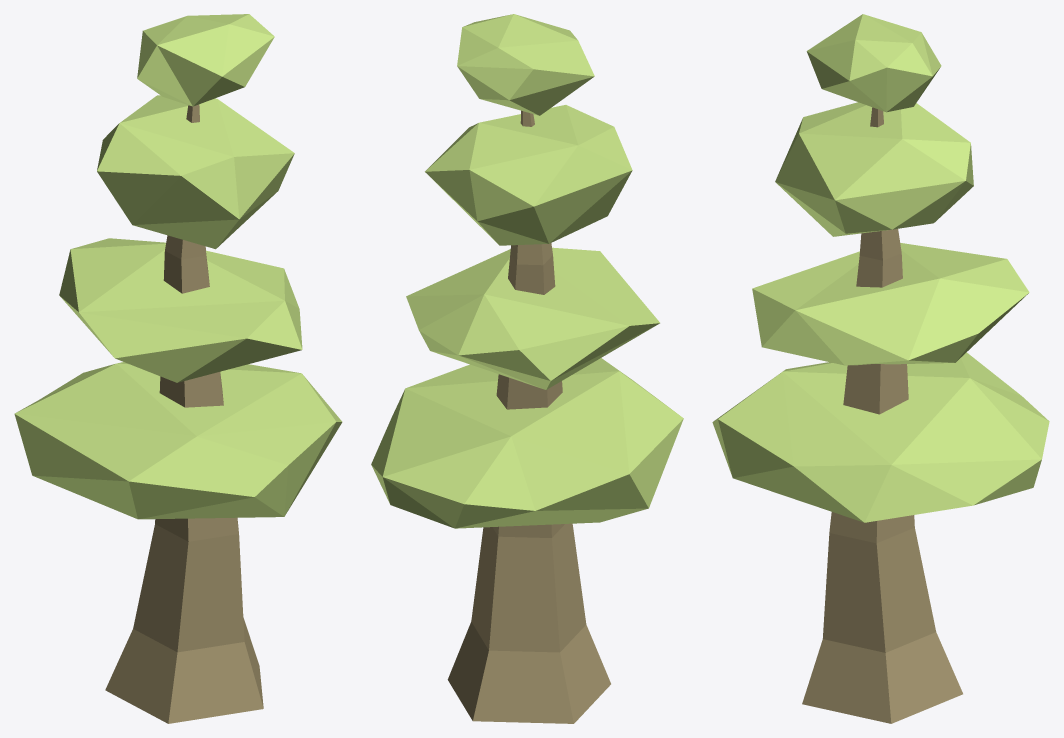
The model's file is Low_Poly_Tree_002Light3.fbx.
3 renders of one model, left to right at view 1: azimuth 30°, elevation 25°; view 2: azimuth 150°, elevation 25°; view 3: azimuth 270°, elevation 25°, orthographic.
Parts seen in each view (by area): view 1: Low_Poly_Tree_002; view 2: Low_Poly_Tree_002; view 3: Low_Poly_Tree_002.
Boxes of the visible parts, x1,y1,x2,y2 form: Low_Poly_Tree_002: (14,14,342,723); Low_Poly_Tree_002: (371,14,683,723); Low_Poly_Tree_002: (712,14,1049,723).
Bounding box in the file's own units: 489 × 1096 × 507.
